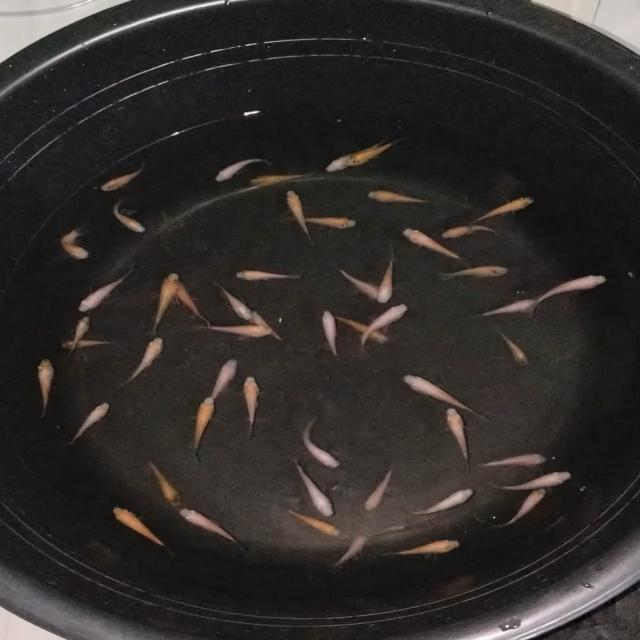nila: (402, 373, 496, 421), (176, 508, 252, 550), (392, 483, 476, 518), (110, 502, 169, 551), (357, 298, 410, 352), (77, 268, 137, 314), (290, 456, 333, 519), (122, 334, 167, 387), (330, 309, 396, 345), (535, 272, 609, 304), (61, 400, 110, 448), (298, 417, 342, 470), (400, 227, 466, 261), (484, 468, 572, 493), (323, 138, 381, 174), (443, 404, 473, 472), (146, 270, 178, 332), (504, 486, 546, 532), (478, 448, 550, 474), (325, 531, 374, 569), (284, 188, 318, 242), (333, 264, 382, 301), (283, 508, 343, 538), (214, 154, 270, 186), (97, 160, 149, 194), (239, 302, 288, 338), (148, 460, 184, 508), (212, 280, 255, 320), (238, 372, 264, 438), (170, 274, 208, 318), (202, 356, 238, 402), (191, 394, 215, 462), (472, 196, 534, 222), (386, 537, 461, 558), (500, 326, 537, 368), (364, 466, 396, 514), (344, 140, 402, 166), (195, 320, 278, 338), (471, 298, 538, 320), (35, 354, 58, 412), (284, 212, 362, 229), (237, 170, 314, 187), (233, 266, 304, 284), (440, 264, 510, 282), (112, 199, 148, 233), (375, 251, 397, 306), (321, 304, 343, 358), (58, 226, 92, 260), (368, 188, 432, 205), (59, 334, 118, 352), (66, 314, 89, 356), (440, 224, 498, 239)
